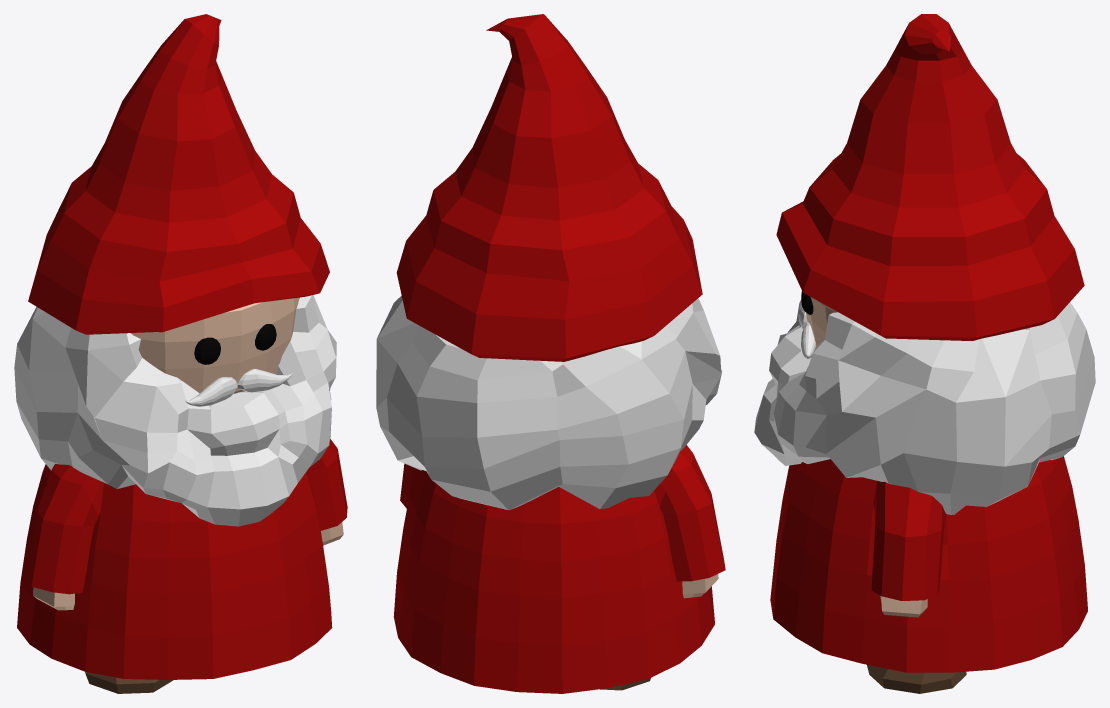
File: red_gnome.fbx
3 renders of one model, left to right at view 1: azimuth 30°, elevation 25°; view 2: azimuth 150°, elevation 25°; view 3: azimuth 270°, elevation 25°, orthographic.
Visible parts, largest first — view 1: gnome_combined; view 2: gnome_combined; view 3: gnome_combined.
Part boxes in pixels (left/top/right/bottom): gnome_combined: left=14, top=14, right=347, bottom=693; gnome_combined: left=376, top=14, right=725, bottom=693; gnome_combined: left=754, top=14, right=1095, bottom=693.
Bounding box in the file's own units: 10.86 × 20.81 × 10.08.
